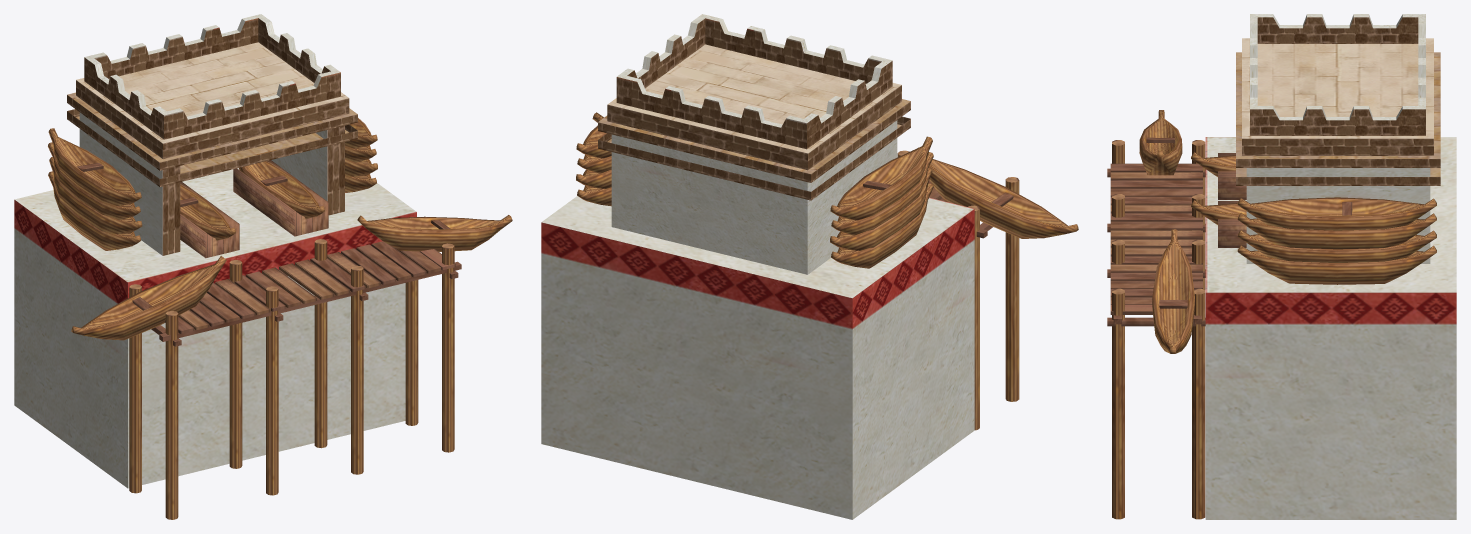
Rendered from dock_mex.dae.
The picture shows the model from 3 angles, left to right: view 1: azimuth 30°, elevation 25°; view 2: azimuth 150°, elevation 25°; view 3: azimuth 270°, elevation 25°; orthographic projection. The views are drawn at different scales.
Parts seen in each view (by area): view 1: Dock; view 2: Dock; view 3: Dock.
Boxes of the visible parts, x1=… form: Dock: x1=14, y1=14, x2=512, y2=519; Dock: x1=541, y1=14, x2=1078, y2=519; Dock: x1=1107, y1=14, x2=1456, y2=519.
Size of the model in its own units: 32.4 by 19.97 by 24.09.
